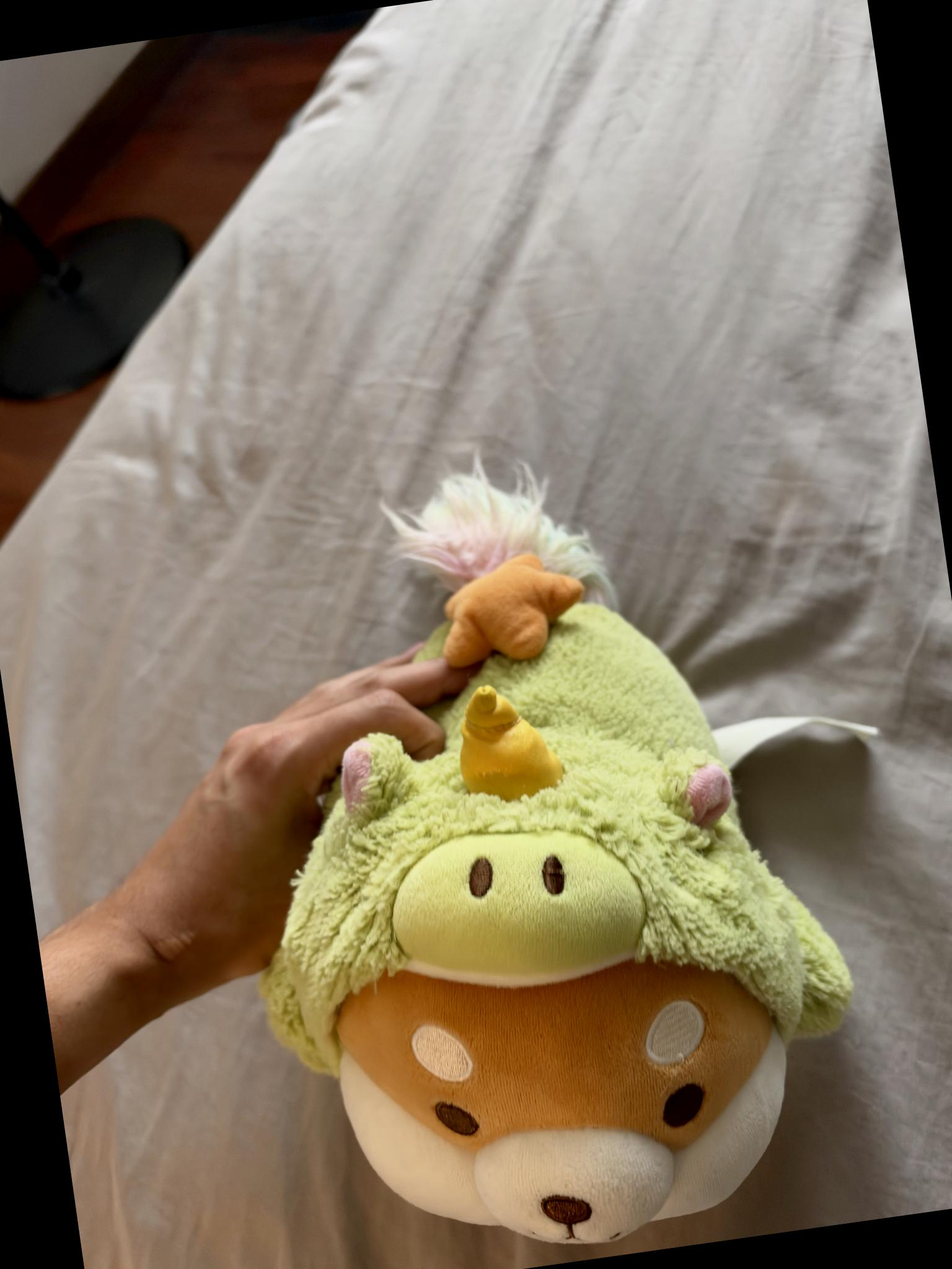peluche_martin: (187, 411, 889, 1269)
